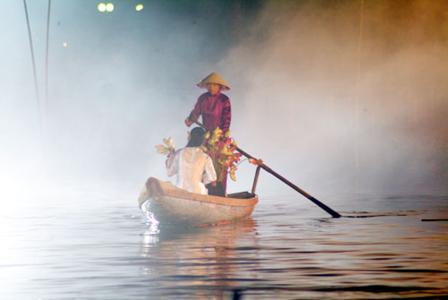person: (184, 73, 233, 199)
